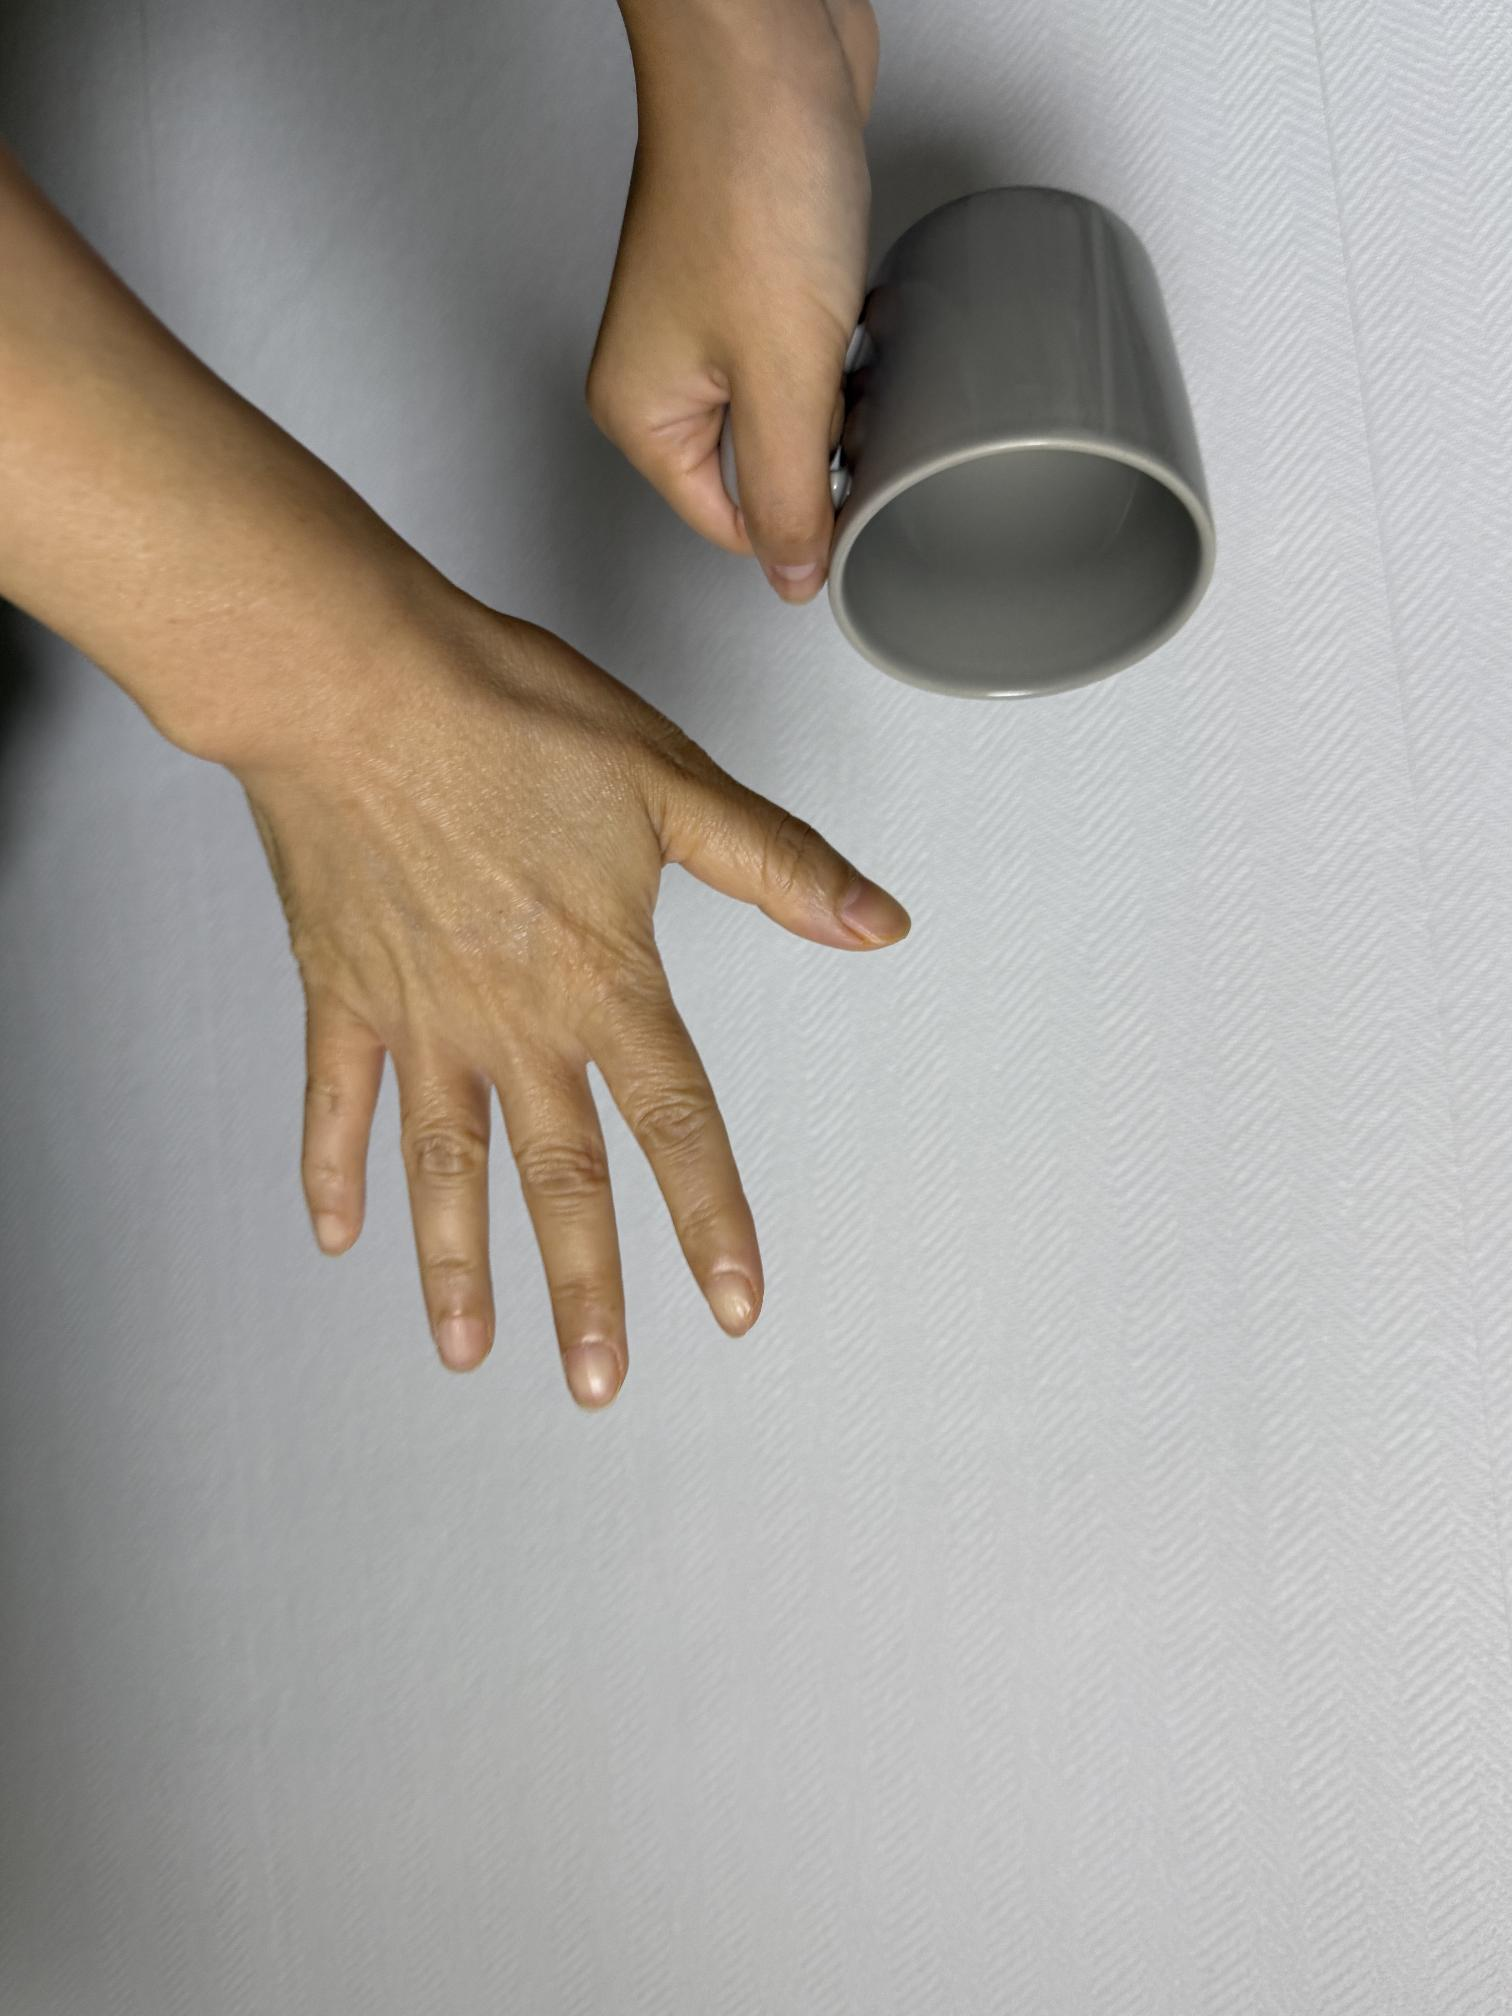cup: (556, 0, 1228, 721)
